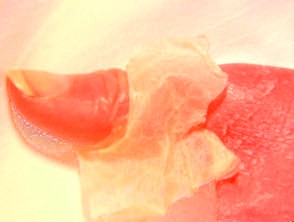SJS-TEN: (0, 25, 294, 222)
